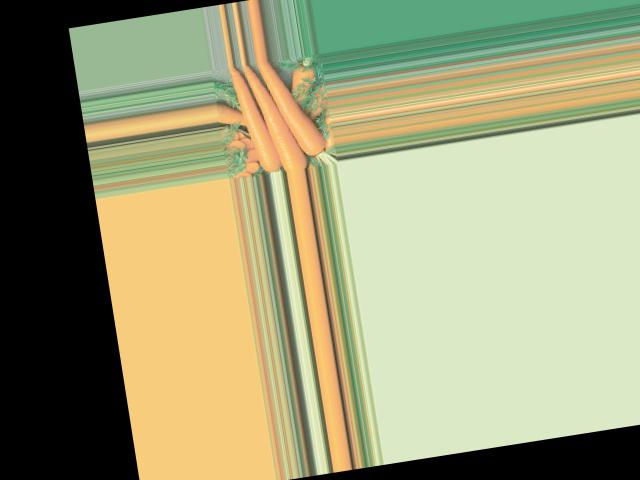carrot: (256, 56, 328, 160)
